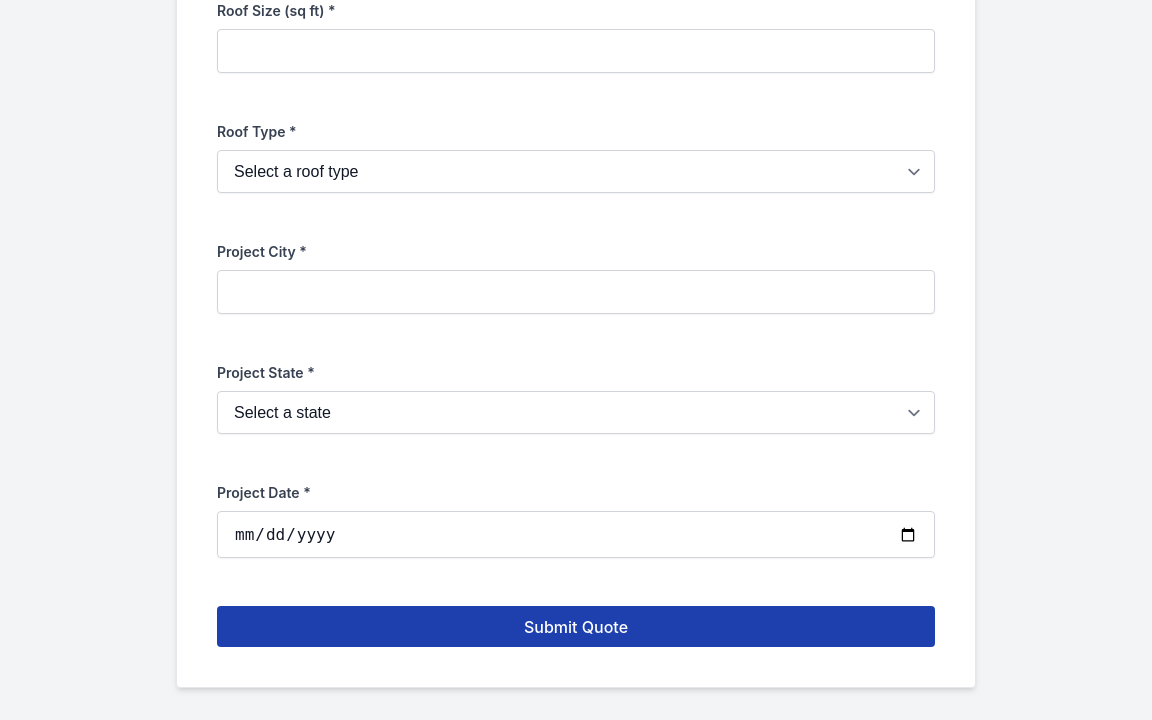
it: QuoteForm › shows validation errors for empty required fields
(page scrolled)
Note: Trigger form submission without filling any fields
Click the button "Submit Quote".
click(576, 627)  # box [217,606,935,647]
(page scrolled)
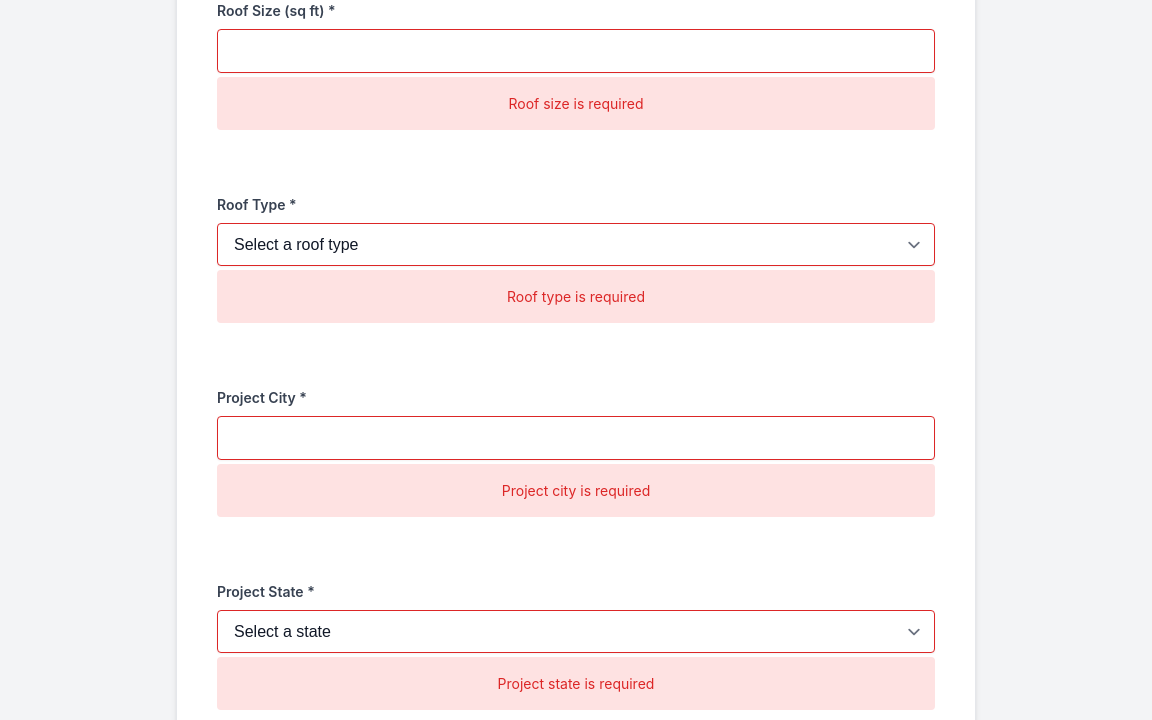
Now the text "Roof size is required" is shown, box [217,77,935,130]
